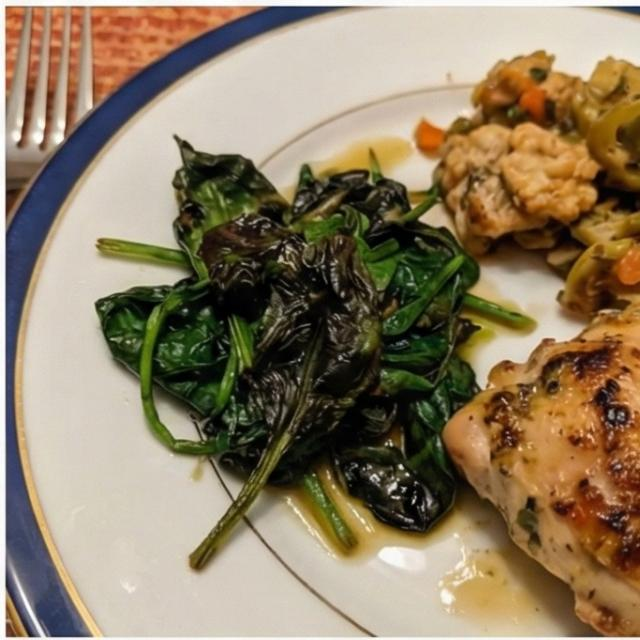rotten spinach: (85, 121, 464, 565)
